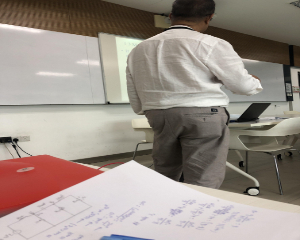stand: (119, 1, 255, 188)
